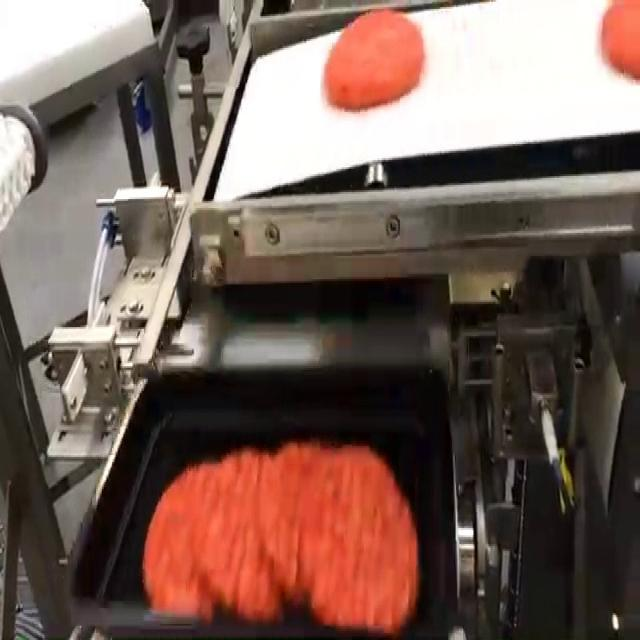4-hamburguer: (143, 443, 418, 633)
